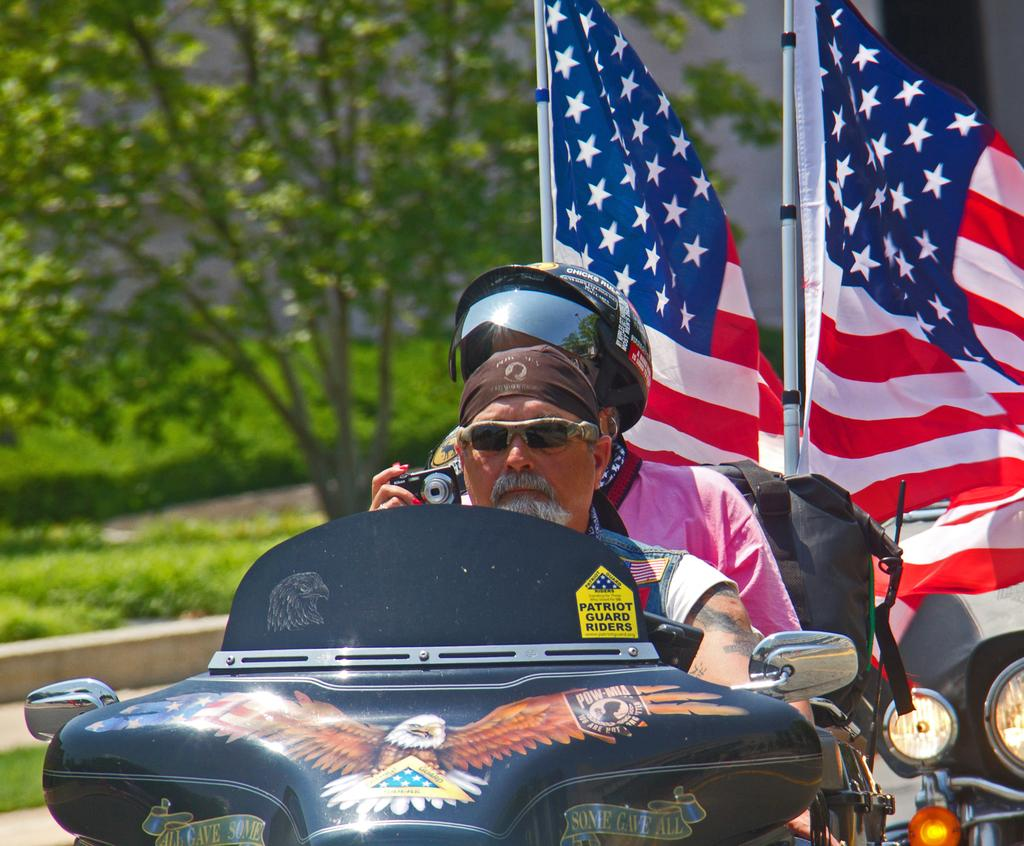helmet: (448, 261, 653, 436)
nohelmet: (455, 346, 610, 536)
